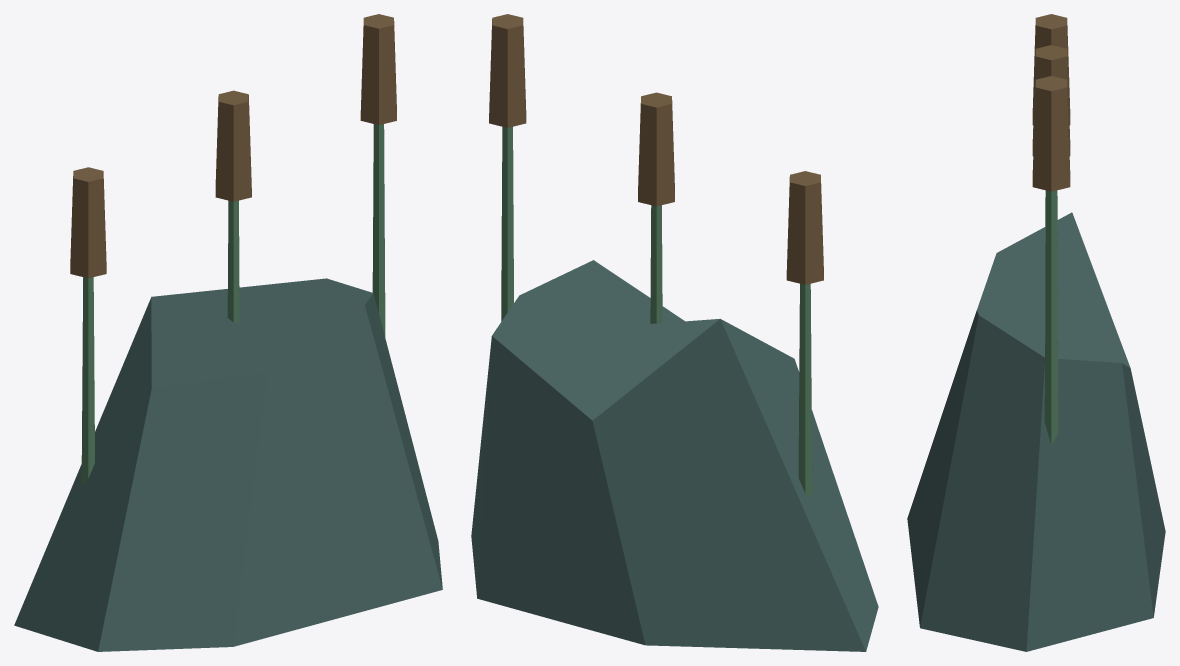
Rendered from map-boundaries-v5__lake_11.glb.
The picture shows the model from 3 angles, left to right: view 1: azimuth 30°, elevation 25°; view 2: azimuth 150°, elevation 25°; view 3: azimuth 270°, elevation 25°; orthographic projection. The views are drawn at different scales.
Visible parts, largest first — view 1: lake_11; view 2: lake_11; view 3: lake_11.
Boxes of the visible parts, x1=… form: lake_11: x1=14, y1=14, x2=442, y2=651; lake_11: x1=471, y1=14, x2=878, y2=651; lake_11: x1=907, y1=14, x2=1165, y2=651.
Size of the model in its own units: 1.34 by 1.65 by 0.7098.
